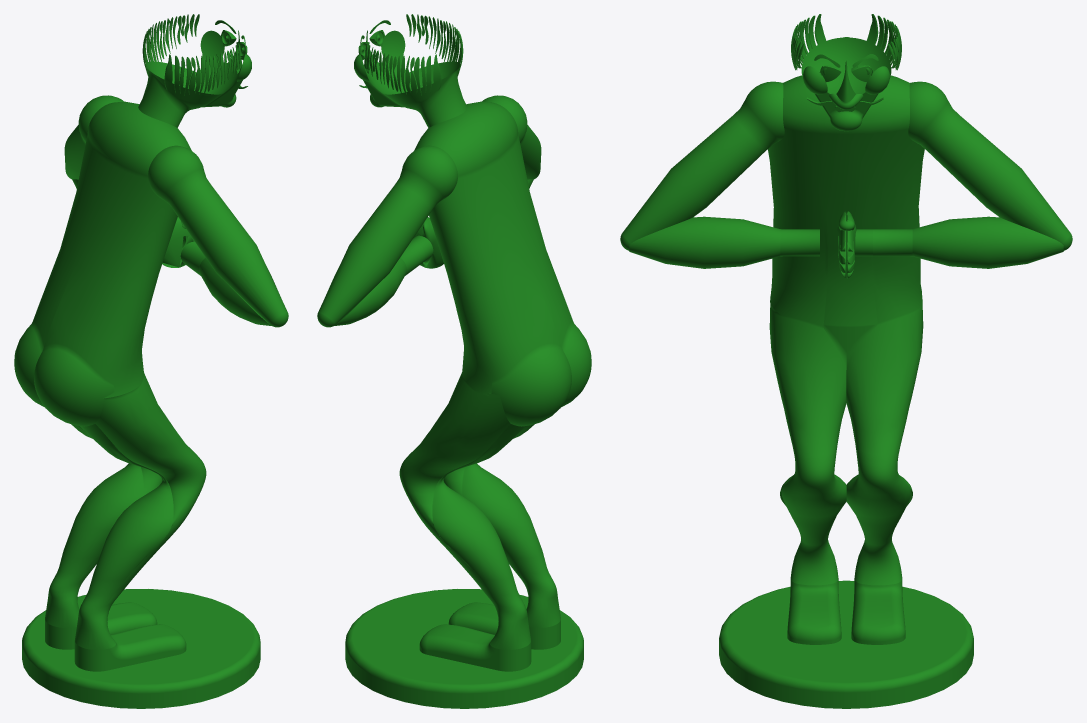
Rendered from DIVER.fbx.
3 renders of one model, left to right at view 1: azimuth 30°, elevation 25°; view 2: azimuth 150°, elevation 25°; view 3: azimuth 270°, elevation 25°, orthographic. The views are drawn at different scales.
Visible parts, largest first — view 1: DIVER; view 2: DIVER; view 3: DIVER.
Part boxes in pixels (box(x1,y1,x2,y2)): DIVER: box(14, 14, 288, 708); DIVER: box(317, 14, 591, 708); DIVER: box(620, 14, 1072, 708).
Bounding box in the file's own units: 2.63 × 7.17 × 4.51.
